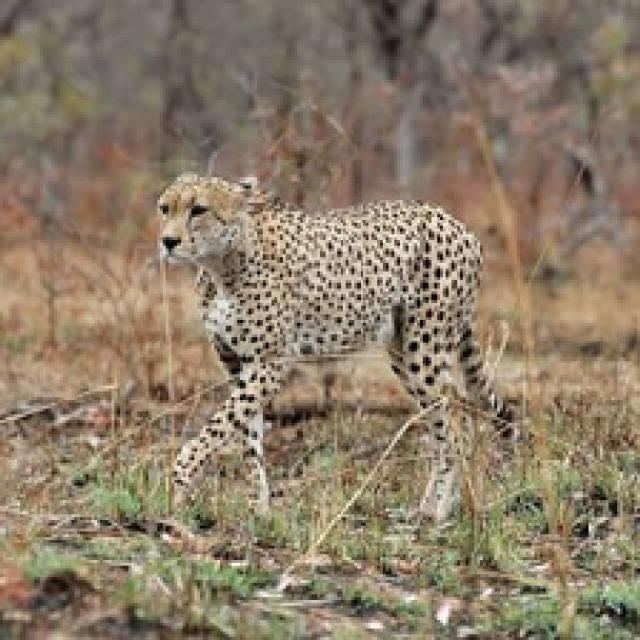cheetah: (137, 154, 525, 538)
